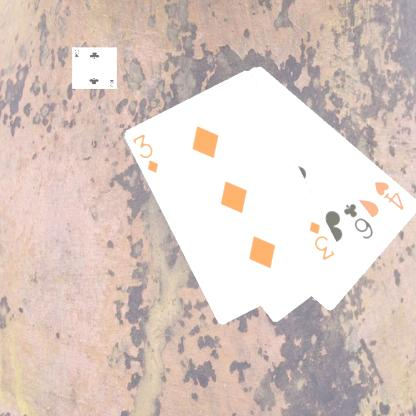3D: (306, 218, 337, 262), (130, 130, 160, 175)
4H: (372, 178, 406, 212)
6C: (340, 200, 376, 241)
